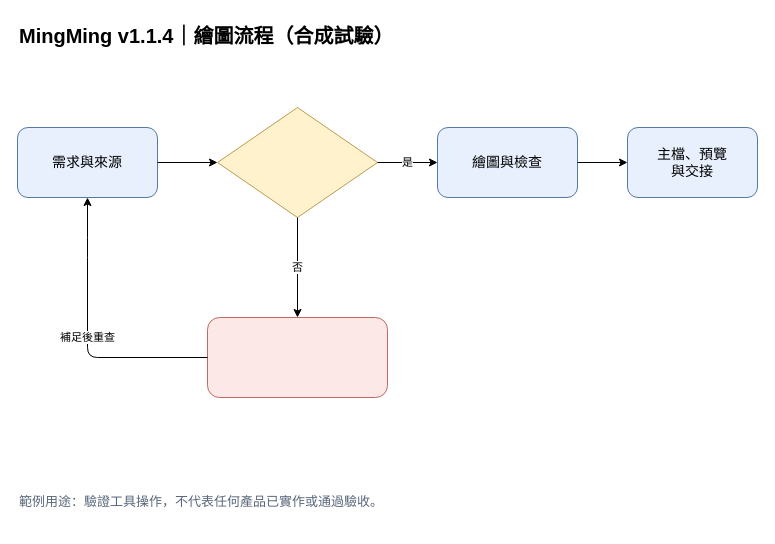
Image size: 775x544. Some labels were removed from this diagram. Each missing label, with the box of its shape:
詢問必要資料 其他無依賴工作繼續: (206, 316, 388, 398)
重要資料足夠？: (216, 106, 378, 218)
